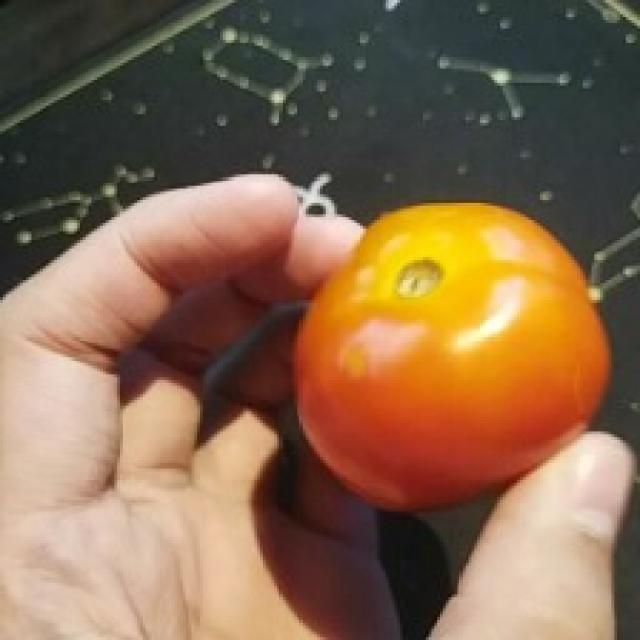Fresh Tomato: (292, 183, 602, 508)
